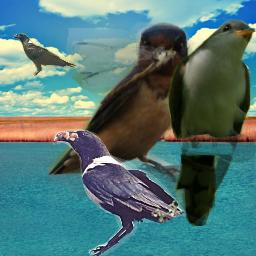Crow: (53, 129, 189, 256), (12, 33, 77, 76)
Cuckoo: (167, 19, 256, 226)
Swallow: (47, 22, 201, 197)
